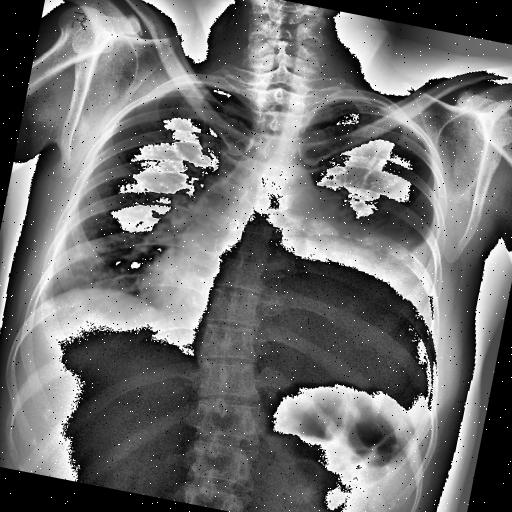10- Pleural effusion: (284, 202, 466, 402), (283, 216, 462, 404), (288, 190, 452, 394)
7- Lung Opacity: (288, 190, 452, 394)
